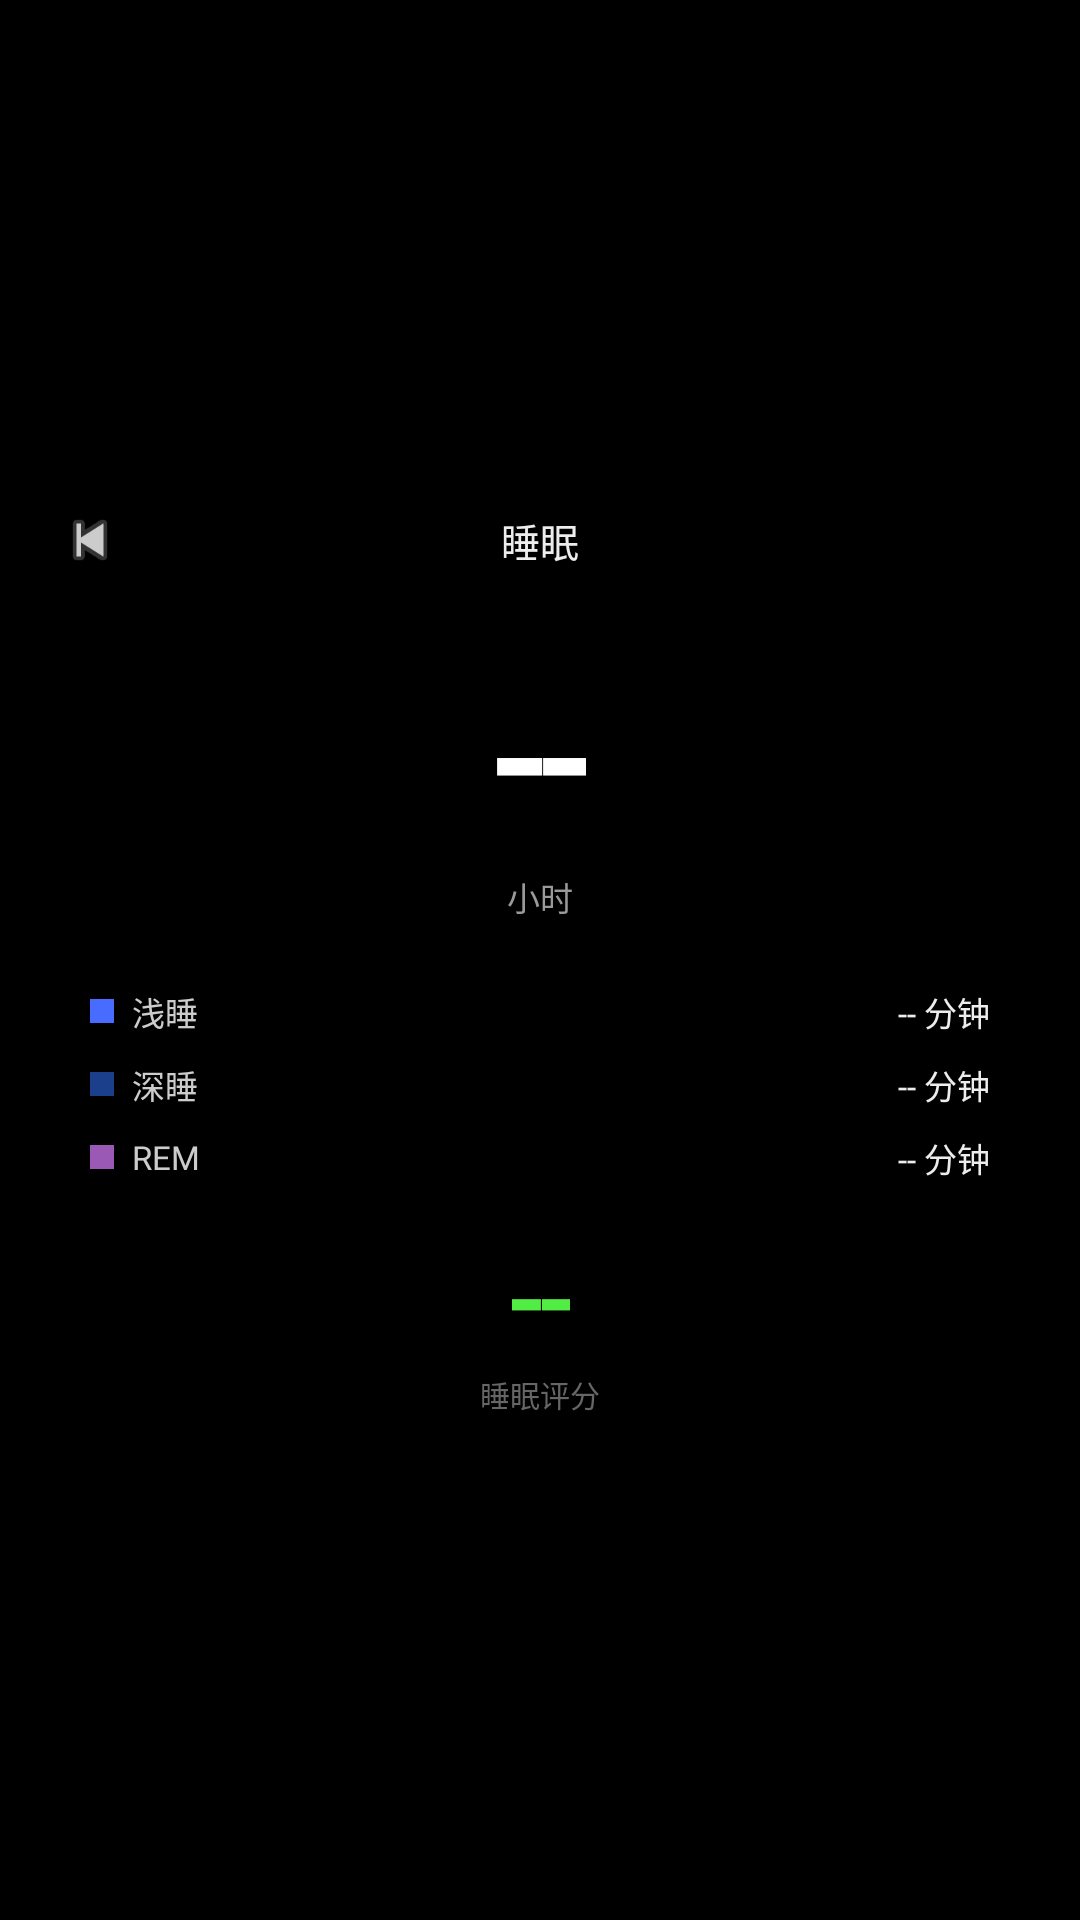

Icon bounding boxes for this 1080px x 1920px phone screenshot, format (x1, y1, x2, y2):
previous: (73, 520, 107, 560)
